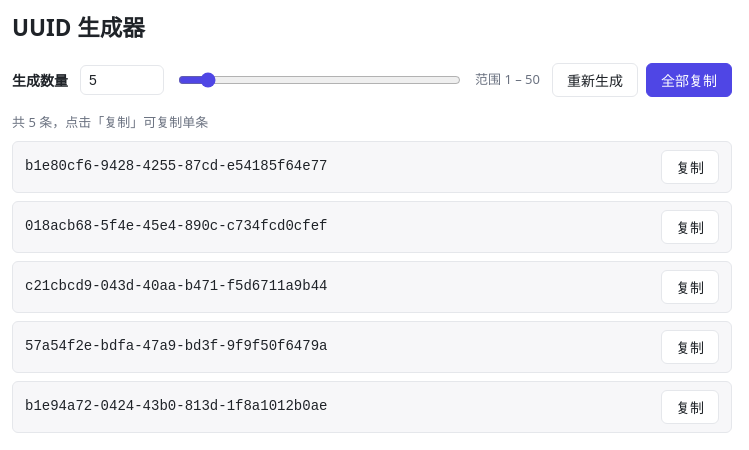
Scenario: BETE-7 AC-3 数量边界 1 与 50 › AC-3: 数量输入 1 时生成 1 条
Step 1. Replace the text in the number field labelled "生成数量" with "1" → (122, 80), box [80,65,164,95]
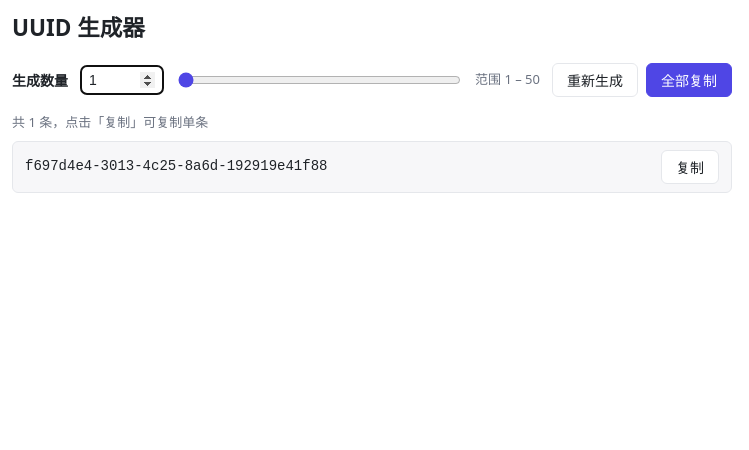
Now the number of list items is 1, box [12,141,732,193]
Now the text "共 1 条，点击「复制」可复制单条" is shown, box [12,113,208,131]
